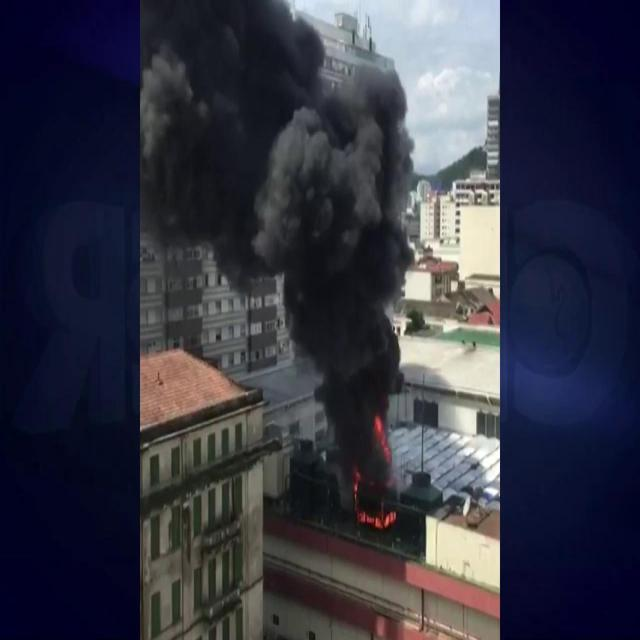smoke: (144, 7, 298, 231), (306, 88, 394, 386)
